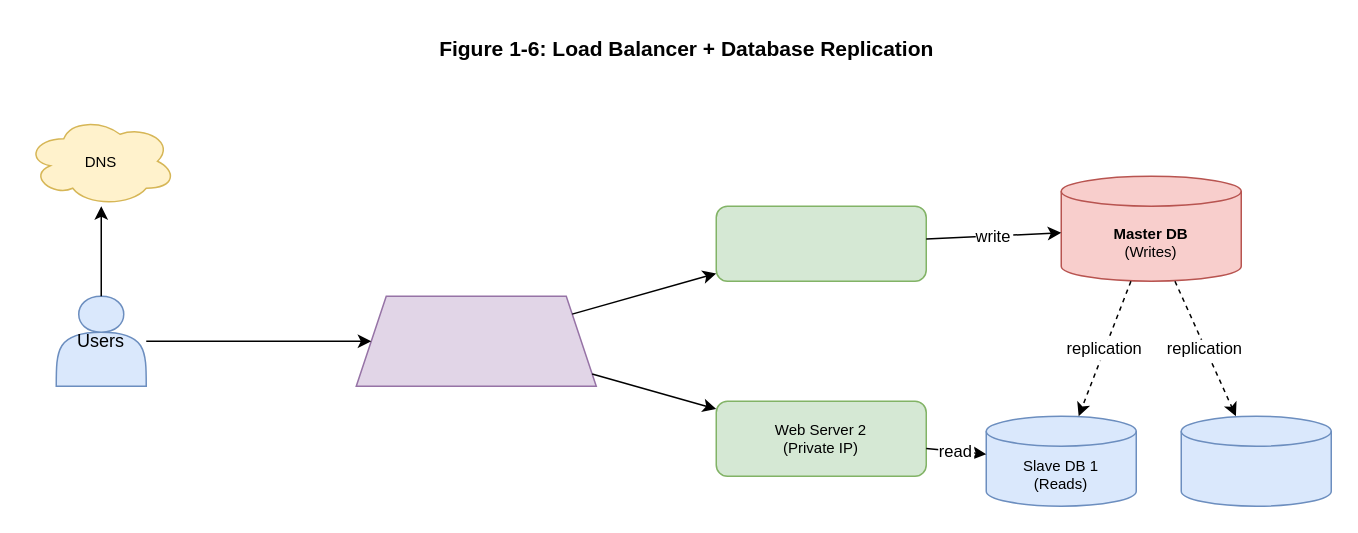
The diagram is 1358 pixels wide and 533 high, and some of its shapes have lost their labels. Each missing label, with the centre of its shape:
Load Balancer (Public IP): the point at 475,340
Slave DB 2 (Reads): the point at 1255,460
Web Server 1 (Private IP): the point at 820,243
